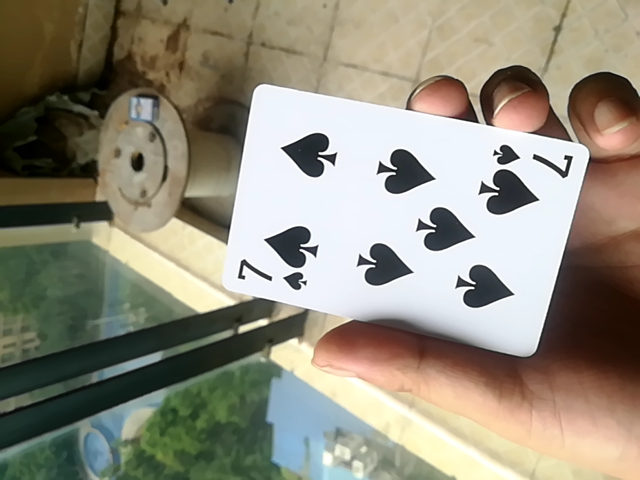ht 7: (216, 85, 595, 366)
